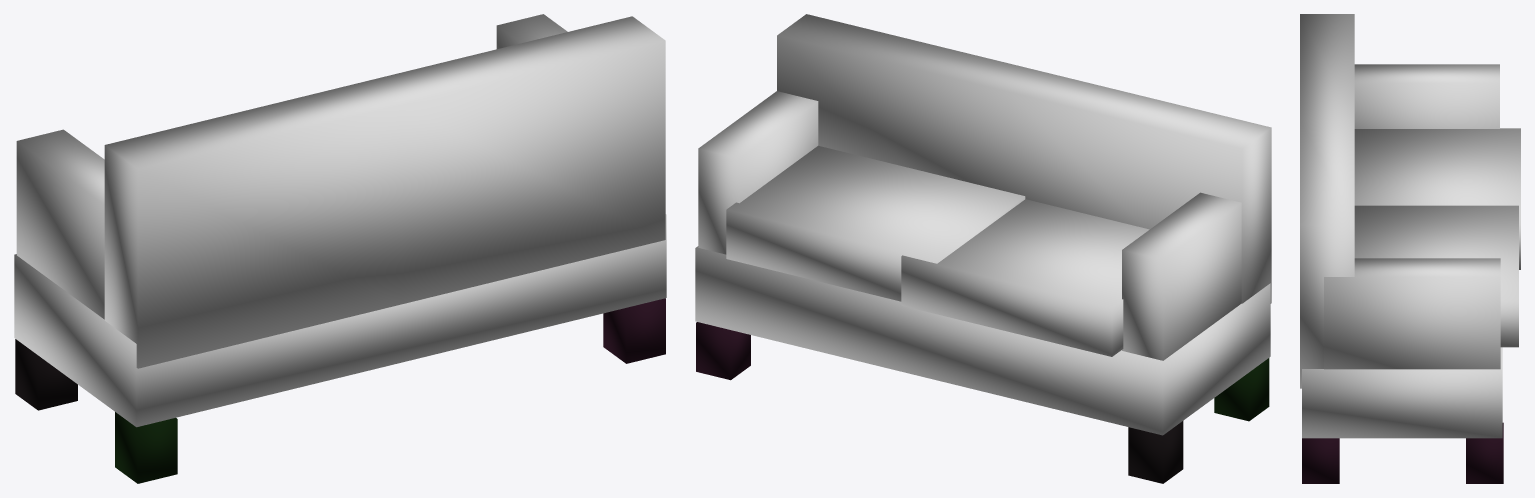
The model's file is sofa.fbx.
The picture shows the model from 3 angles, left to right: view 1: azimuth 30°, elevation 25°; view 2: azimuth 150°, elevation 25°; view 3: azimuth 270°, elevation 25°; orthographic projection. The views are drawn at different scales.
Visible parts, largest first — view 1: Cube.008; view 2: Cube.008; view 3: Cube.008.
Boxes of the visible parts, bbox=[...] form: Cube.008: bbox=[14, 14, 666, 483]; Cube.008: bbox=[695, 14, 1271, 483]; Cube.008: bbox=[1300, 14, 1520, 483].
Bounding box in the file's own units: 4.01 × 2.28 × 1.76.
